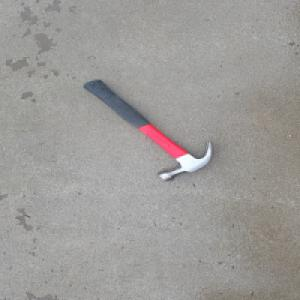Hammer: (81, 78, 214, 181)
